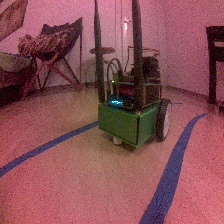rob: (96, 55, 172, 148)
